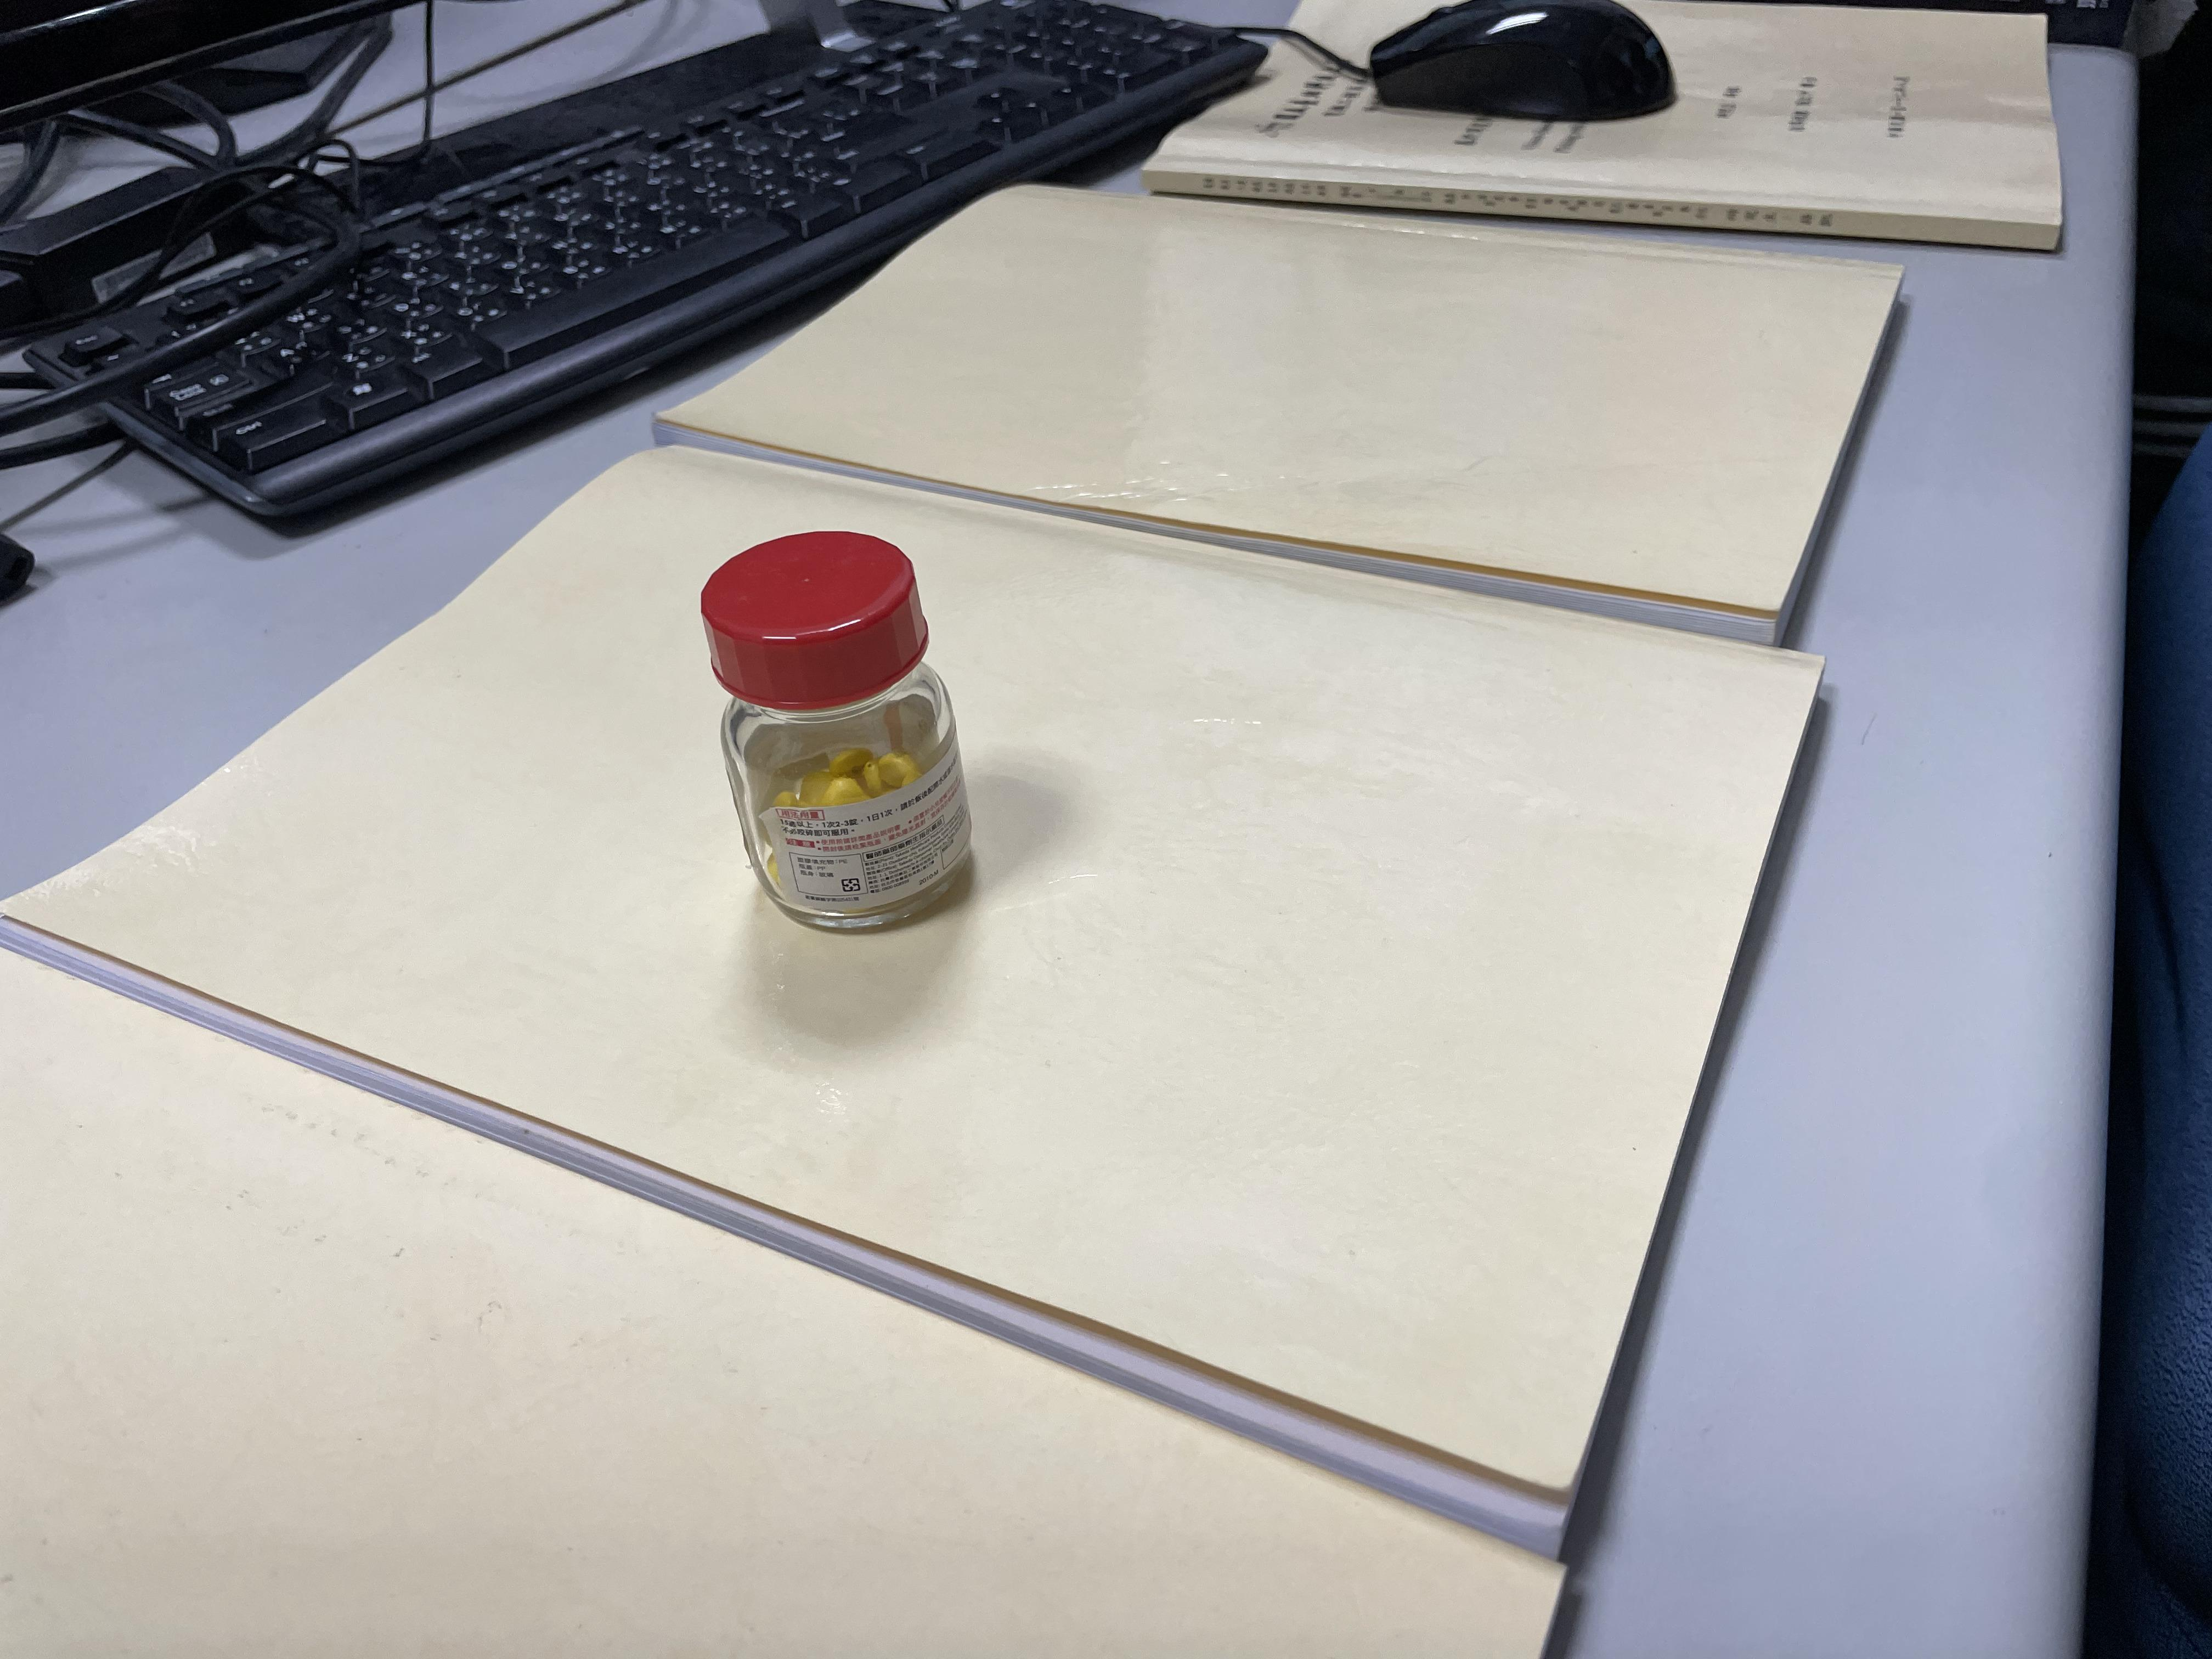jar: (667, 526, 1017, 943)
